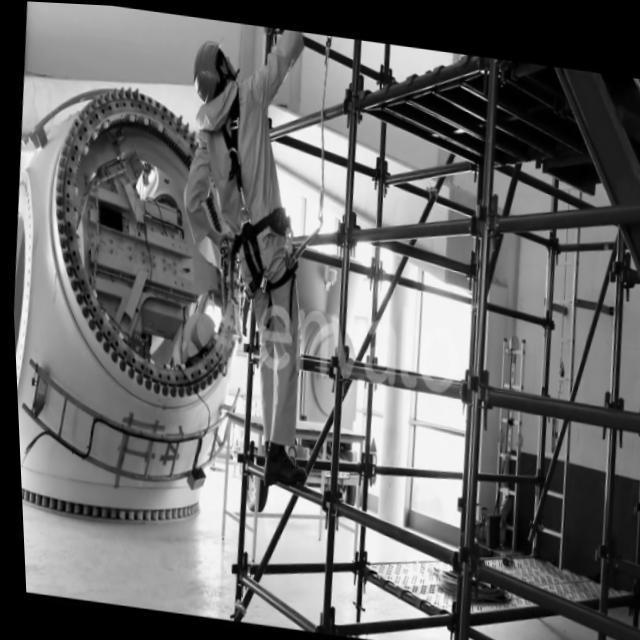safety belt: (186, 119, 313, 316)
